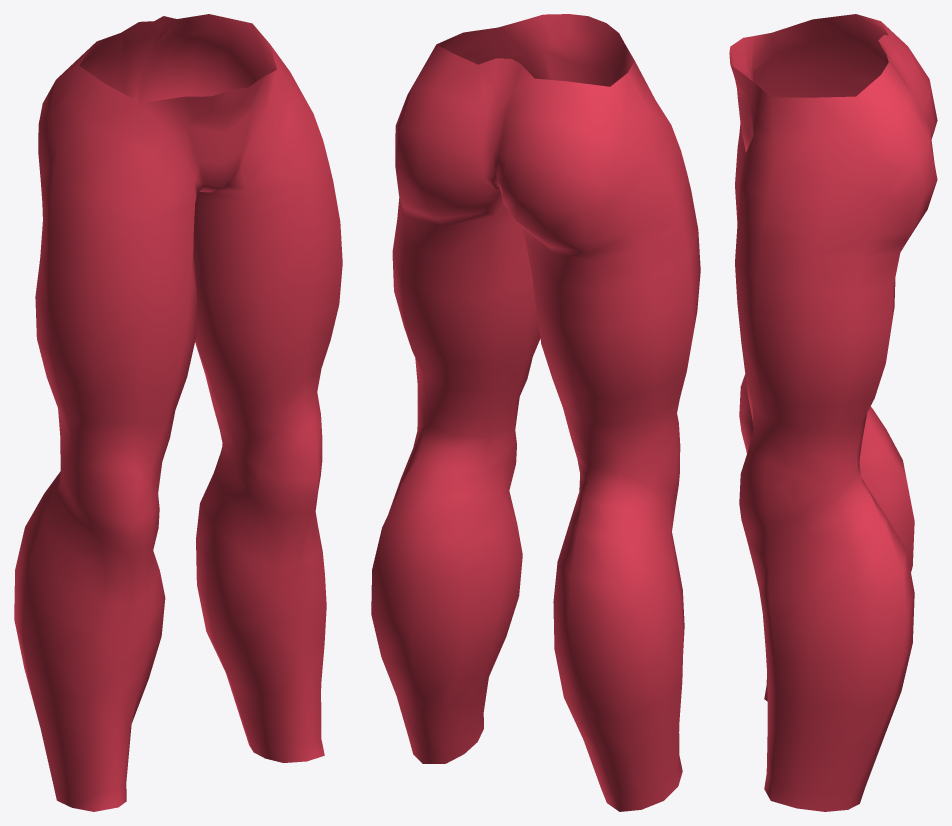
The model's file is Pants.fbx.
3 renders of one model, left to right at view 1: azimuth 30°, elevation 25°; view 2: azimuth 150°, elevation 25°; view 3: azimuth 270°, elevation 25°, orthographic. The views are drawn at different scales.
Parts seen in each view (by area): view 1: Pants.001; view 2: Pants.001; view 3: Pants.001.
Boxes of the visible parts, x1,y1,x2,y2 form: Pants.001: (14, 14, 342, 811); Pants.001: (371, 14, 700, 811); Pants.001: (729, 14, 937, 811).
Bounding box in the file's own units: 43.74 × 107 × 28.2.
